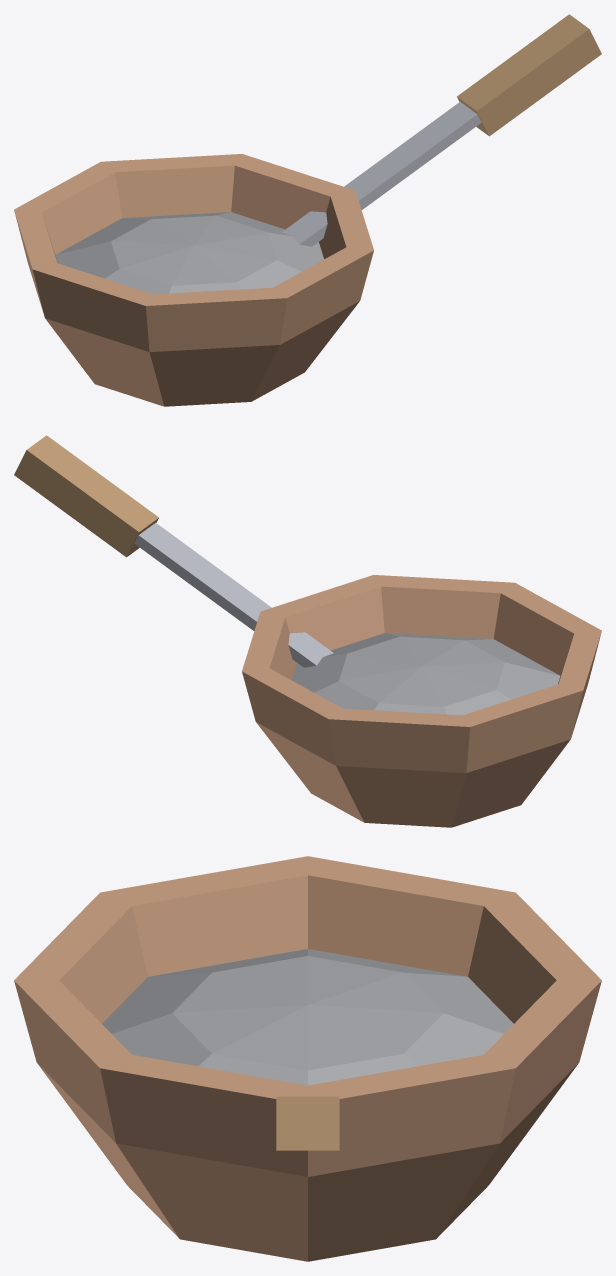
File: prop-amalgam-bowl.fbx
The picture shows the model from 3 angles, top to bottom: view 1: azimuth 30°, elevation 25°; view 2: azimuth 150°, elevation 25°; view 3: azimuth 270°, elevation 25°; orthographic projection. The views are drawn at different scales.
Visible parts, largest first — view 1: prop-amalgam-bowl; view 2: prop-amalgam-bowl; view 3: prop-amalgam-bowl.
Boxes of the visible parts, x1,y1,x2,y2 form: prop-amalgam-bowl: (14, 14, 601, 406); prop-amalgam-bowl: (14, 435, 601, 827); prop-amalgam-bowl: (14, 856, 601, 1261).
Size of the model in its own units: 22.52 by 9.4 by 13.
